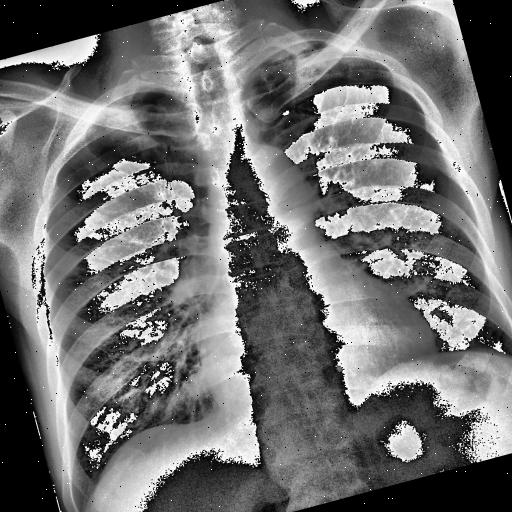11- Pleural thickening: (256, 18, 346, 70), (258, 34, 322, 66), (262, 36, 318, 61)
13- Pulmonary fibrosis: (59, 107, 157, 197), (278, 38, 382, 102)
7- Lung Opacity: (54, 78, 180, 162), (268, 40, 393, 106), (284, 37, 392, 106), (73, 98, 146, 152)
9- Other lesion: (73, 98, 146, 152)
